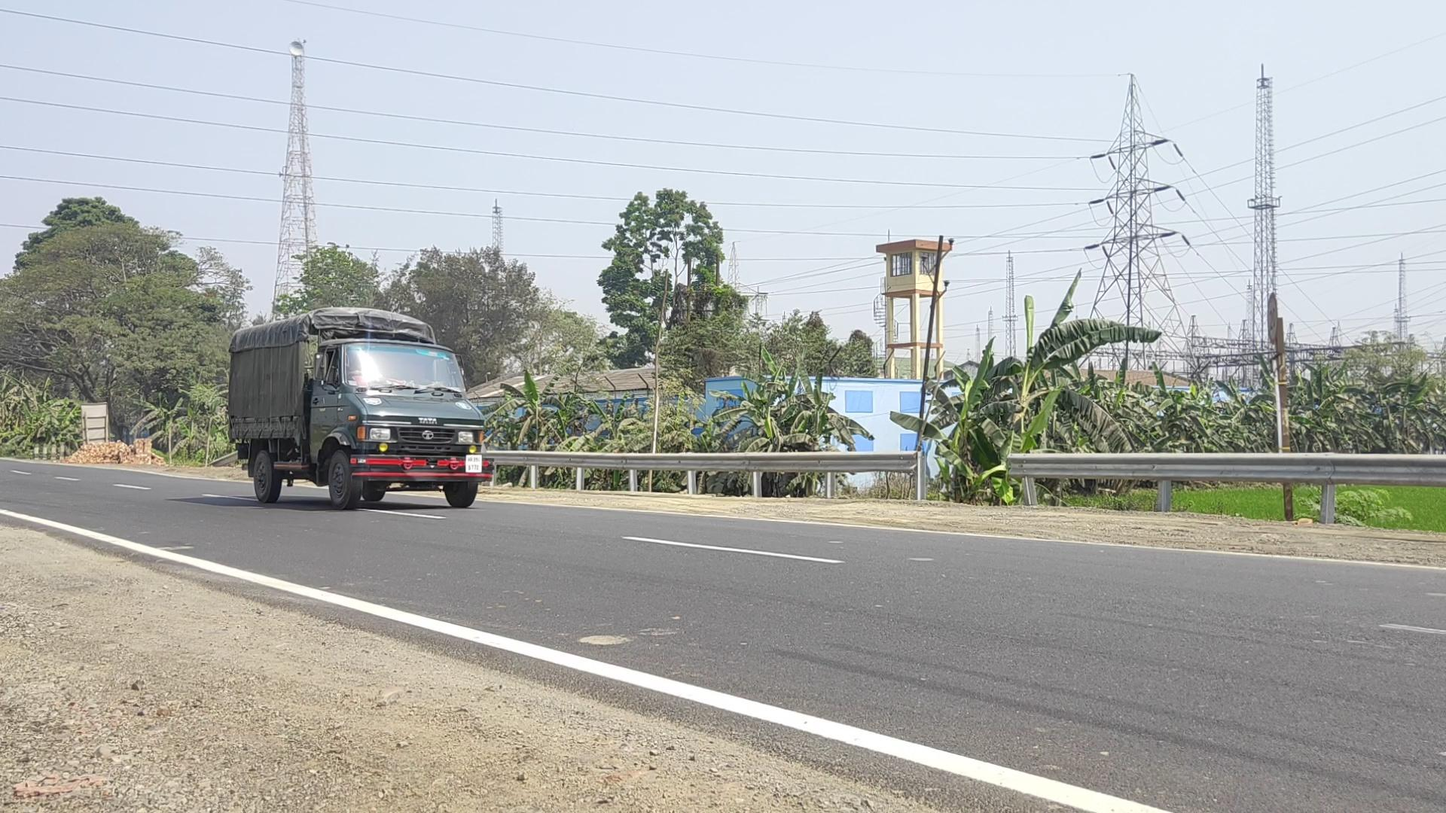truck: (227, 306, 493, 510)
